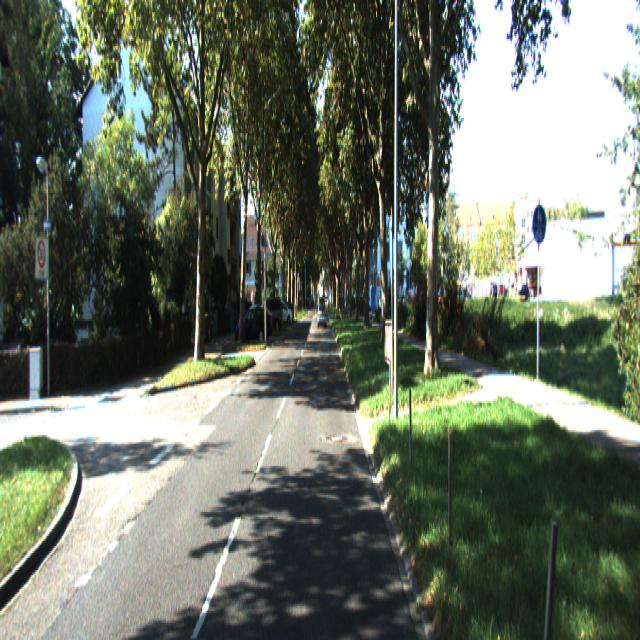Car: (237, 304, 270, 346)
